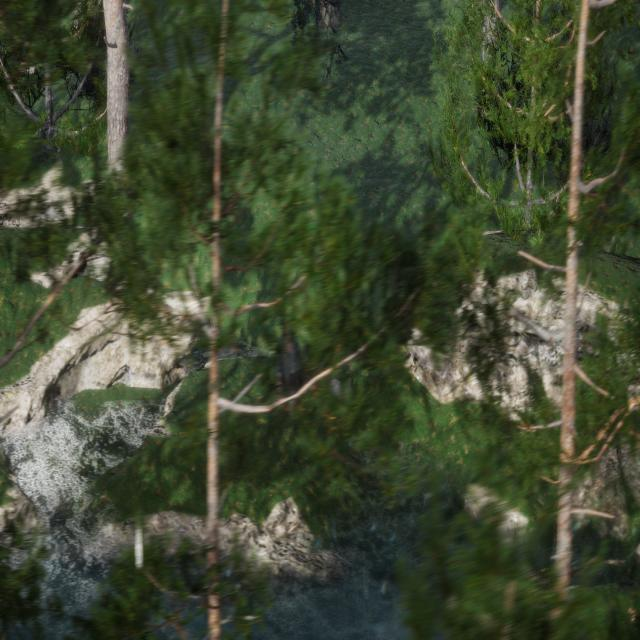Human: (264, 306, 354, 424)
